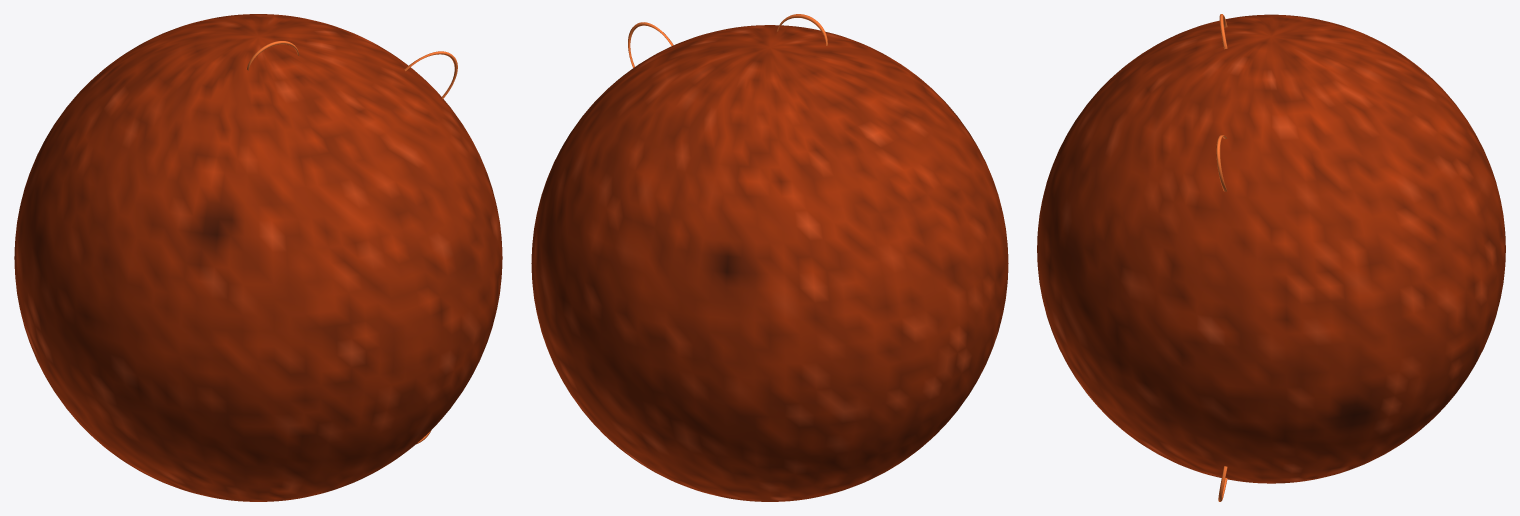
File: Star_34.fbx
3 views of the same model, side by side, from view 1: azimuth 30°, elevation 25°; view 2: azimuth 150°, elevation 25°; view 3: azimuth 270°, elevation 25° (orthographic). The views are drawn at different scales.
Visible parts, largest first — view 1: Star_34; view 2: Star_34; view 3: Star_34.
Part boxes in pixels (x1=…): Star_34: x1=14, y1=14, x2=502, y2=501; Star_34: x1=531, y1=14, x2=1008, y2=501; Star_34: x1=1037, y1=14, x2=1505, y2=501.
Bounding box in the file's own units: 200 × 207 × 200.
